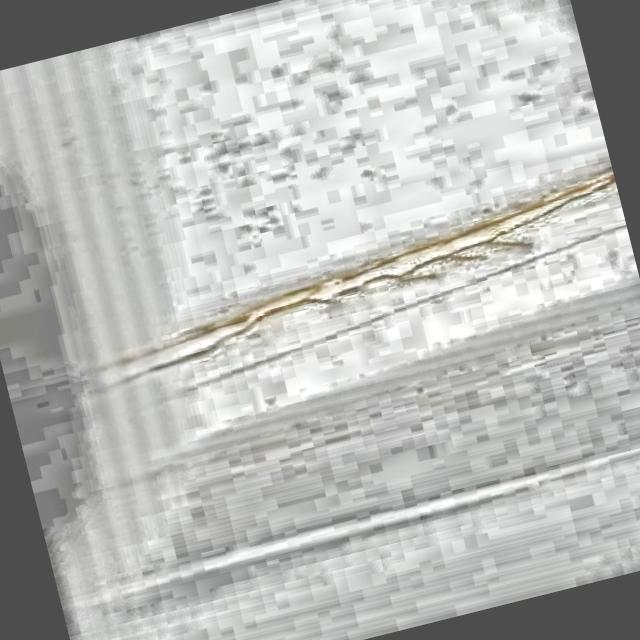crack: (107, 334, 230, 384), (226, 292, 338, 335), (435, 228, 537, 271), (336, 263, 436, 301)
